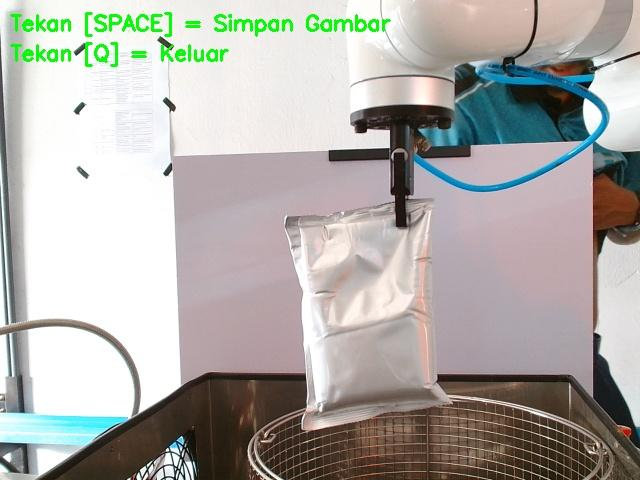retort-pouch: (284, 198, 454, 429)
